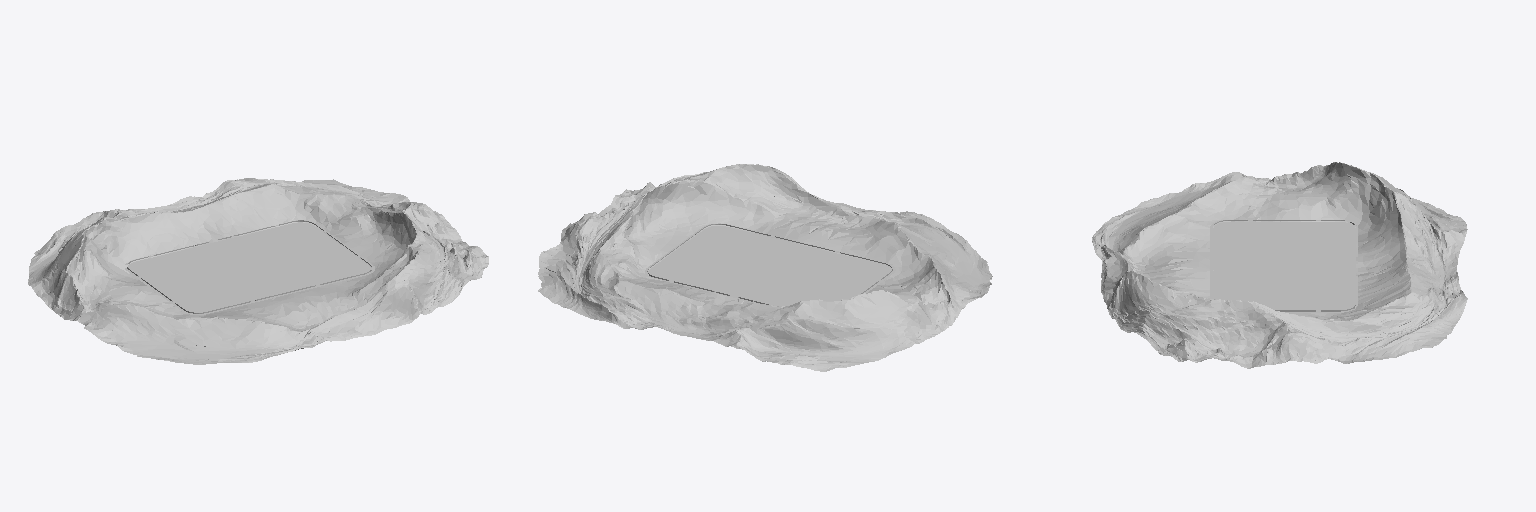
The model's file is slidesoccer_scene.obj.
The picture shows the model from 3 angles: view 1: azimuth 30°, elevation 25°; view 2: azimuth 150°, elevation 25°; view 3: azimuth 270°, elevation 25°; orthographic projection.
Parts seen in each view (by area): view 1: Mountains2:Mountains002, TEMPORARY_IMPORT_NAMESPACE_Çò__:Model001_Mesh113S, TEMPORARY_IMPORT_NAMESPACE_Çò__:Model001_Mesh112S, TEMPORARY_IMPORT_NAMESPACE_Çò__:Model001_Mesh93S; view 2: Mountains2:Mountains002, TEMPORARY_IMPORT_NAMESPACE_Çò__:Model001_Mesh113S, TEMPORARY_IMPORT_NAMESPACE_Çò__:Model001_Mesh112S, TEMPORARY_IMPORT_NAMESPACE_Çò__:Model001_Mesh93S; view 3: Mountains2:Mountains002, TEMPORARY_IMPORT_NAMESPACE_Çò__:Model001_Mesh113S, TEMPORARY_IMPORT_NAMESPACE_Çò__:Model001_Mesh112S, TEMPORARY_IMPORT_NAMESPACE_Çò__:Model001_Mesh93S.
Boxes of the visible parts, x1,y1,x2,y2 form: Mountains2:Mountains002: [28, 178, 488, 364]; TEMPORARY_IMPORT_NAMESPACE_Çò__:Model001_Mesh113S: [143, 229, 355, 307]; TEMPORARY_IMPORT_NAMESPACE_Çò__:Model001_Mesh112S: [128, 222, 371, 312]; TEMPORARY_IMPORT_NAMESPACE_Çò__:Model001_Mesh93S: [125, 220, 374, 314]; Mountains2:Mountains002: [538, 164, 992, 371]; TEMPORARY_IMPORT_NAMESPACE_Çò__:Model001_Mesh113S: [664, 232, 876, 303]; TEMPORARY_IMPORT_NAMESPACE_Çò__:Model001_Mesh112S: [648, 226, 891, 305]; TEMPORARY_IMPORT_NAMESPACE_Çò__:Model001_Mesh93S: [645, 223, 895, 304]; Mountains2:Mountains002: [1092, 162, 1467, 368]; TEMPORARY_IMPORT_NAMESPACE_Çò__:Model001_Mesh113S: [1228, 229, 1339, 304]; TEMPORARY_IMPORT_NAMESPACE_Çò__:Model001_Mesh112S: [1213, 222, 1355, 310]; TEMPORARY_IMPORT_NAMESPACE_Çò__:Model001_Mesh93S: [1210, 220, 1357, 312].
Bounding box in the file's own units: 15.16 × 1.79 × 12.79.